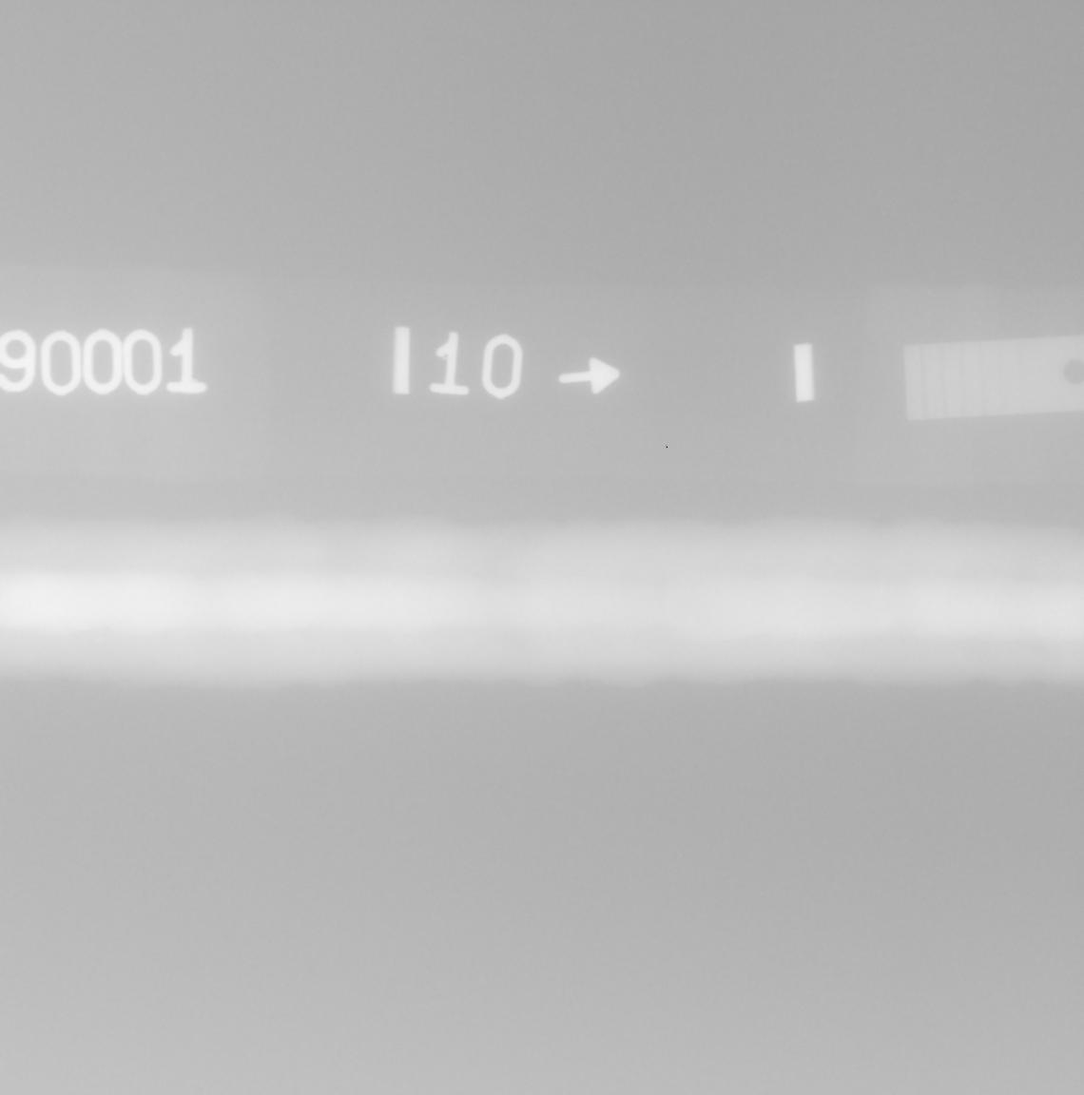Pore/Porosity: (101, 628, 108, 637)
